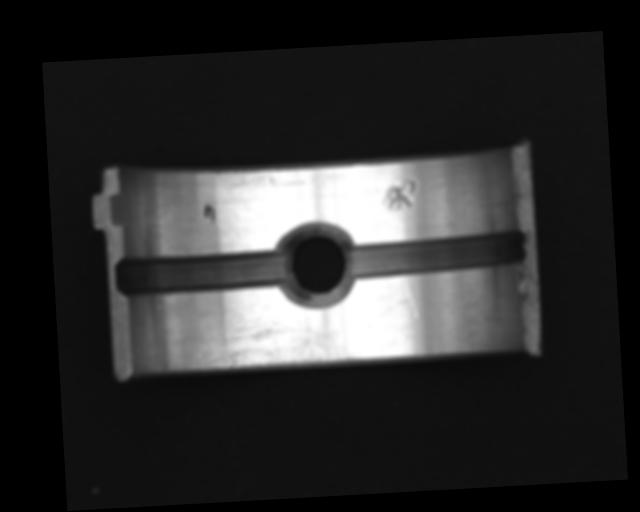blot: (203, 201, 216, 225)
bruise: (380, 177, 418, 212)
gap: (346, 226, 528, 280), (114, 247, 291, 296)
hole: (274, 221, 359, 309)
nick: (402, 276, 418, 319)
scratch: (193, 316, 362, 371)
